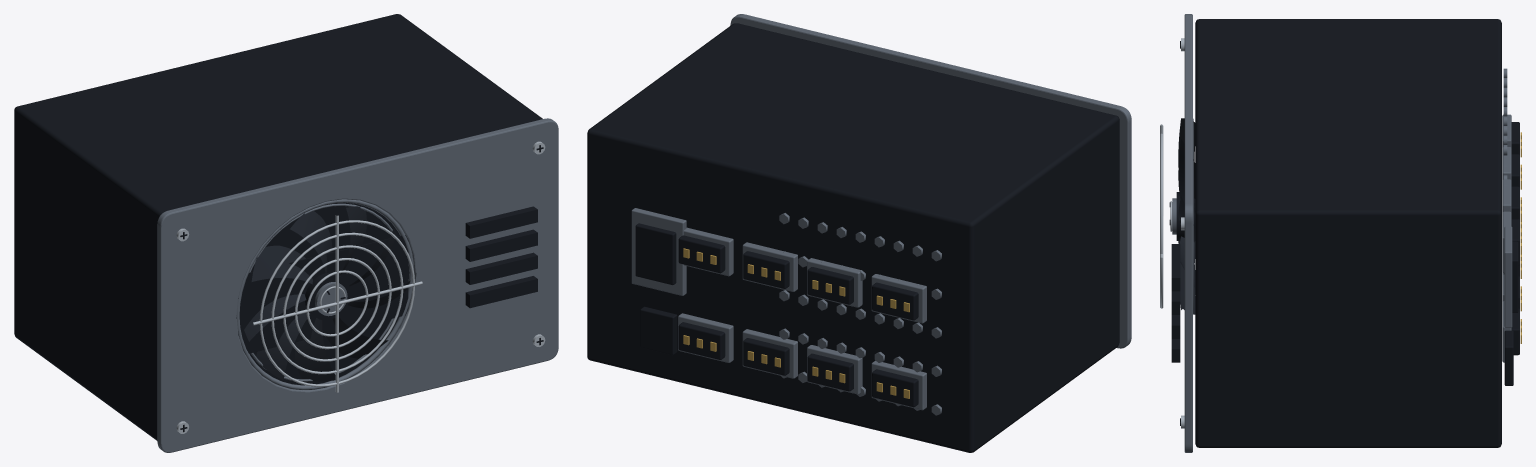
The model's file is nexrig-psu.glb.
3 renders of one model, left to right at view 1: azimuth 30°, elevation 25°; view 2: azimuth 150°, elevation 25°; view 3: azimuth 270°, elevation 25°, orthographic. The views are drawn at different scales.
Visible parts, largest first — view 1: Original generic modular PSU, Fan rotor; view 2: Original generic modular PSU; view 3: Original generic modular PSU, Fan rotor.
Boxes of the visible parts, <box> form: Original generic modular PSU: <box>14,14,558,452</box>; Fan rotor: <box>244,206,410,381</box>; Original generic modular PSU: <box>587,14,1131,452</box>; Original generic modular PSU: <box>1160,14,1521,452</box>; Fan rotor: <box>1169,118,1195,314</box>.
Bounding box in the file's own units: 1.3 × 0.747 × 0.9917.
